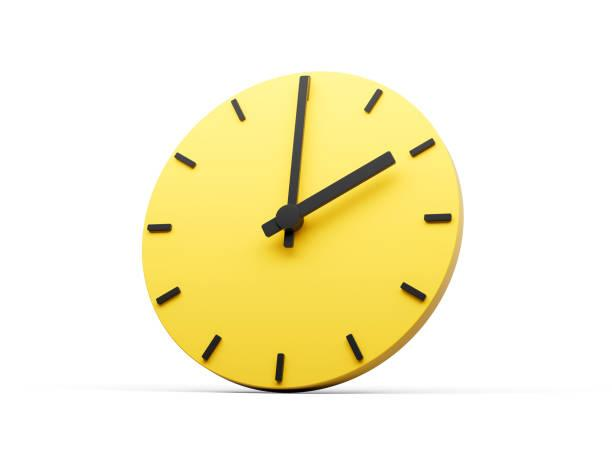clock: (123, 63, 476, 417)
